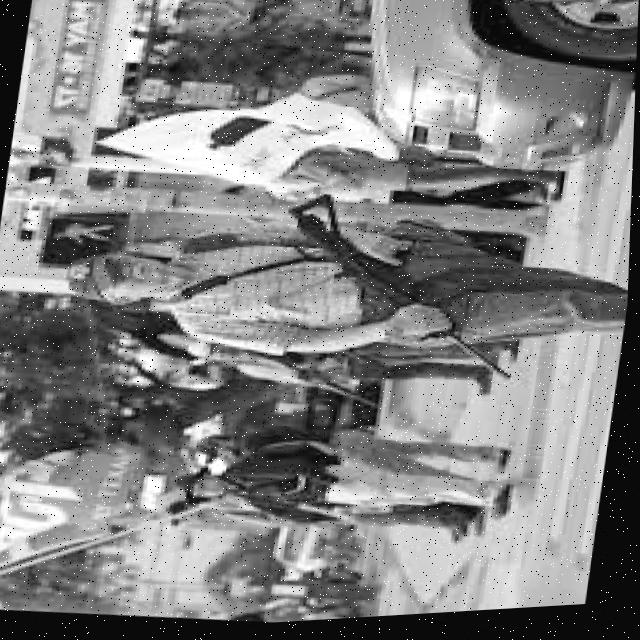firearm: (266, 182, 540, 398), (235, 345, 390, 419)
